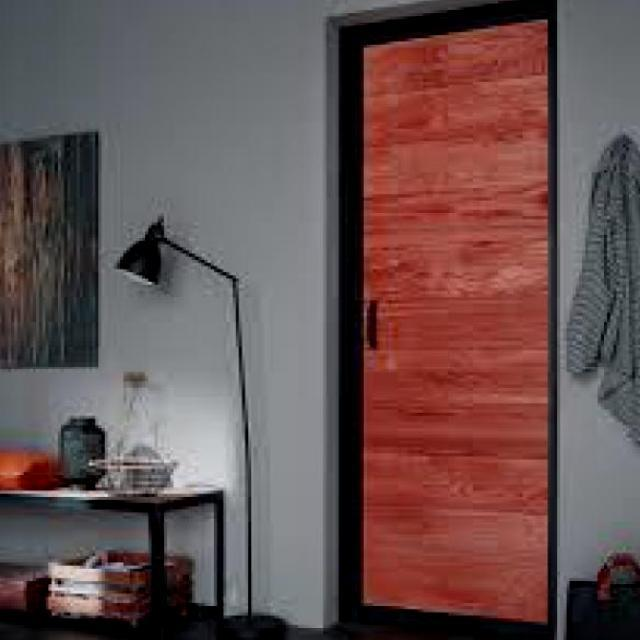door: (334, 1, 554, 634)
